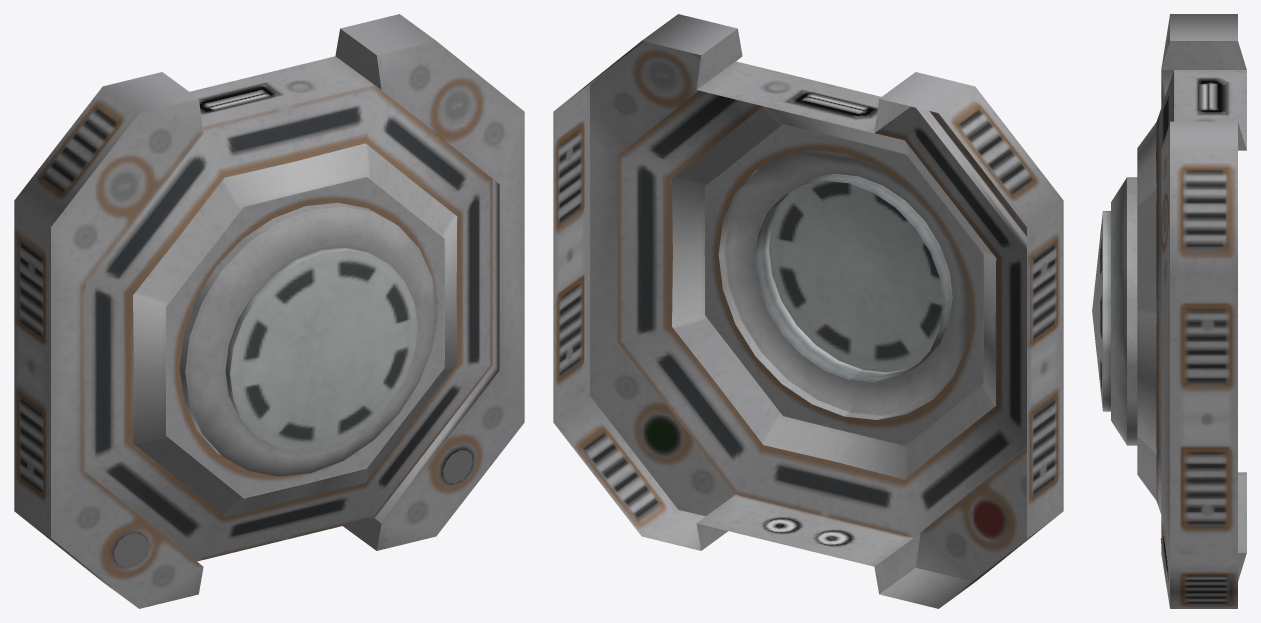
File: Button A1C.fbx
3 views of the same model, side by side, from view 1: azimuth 30°, elevation 25°; view 2: azimuth 150°, elevation 25°; view 3: azimuth 270°, elevation 25° (orthographic). The views are drawn at different scales.
Parts seen in each view (by area): view 1: Button A1C, ButtonHandle A1C, Button A1C LightRed, Button A1C LightGreen; view 2: Button A1C, ButtonHandle A1C; view 3: Button A1C, ButtonHandle A1C.
Boxes of the visible parts, x1,y1,x2,y2 form: Button A1C: (14, 14, 524, 608); ButtonHandle A1C: (225, 247, 417, 451); Button A1C LightRed: (114, 533, 148, 567); Button A1C LightGreen: (443, 450, 472, 483); Button A1C: (553, 14, 1063, 608); ButtonHandle A1C: (764, 181, 942, 375); Button A1C: (1111, 14, 1246, 608); ButtonHandle A1C: (1092, 211, 1110, 411).
Size of the model in its own units: 16.08 by 16.08 by 4.9.
Materials: 3 (1 with a texture image).
